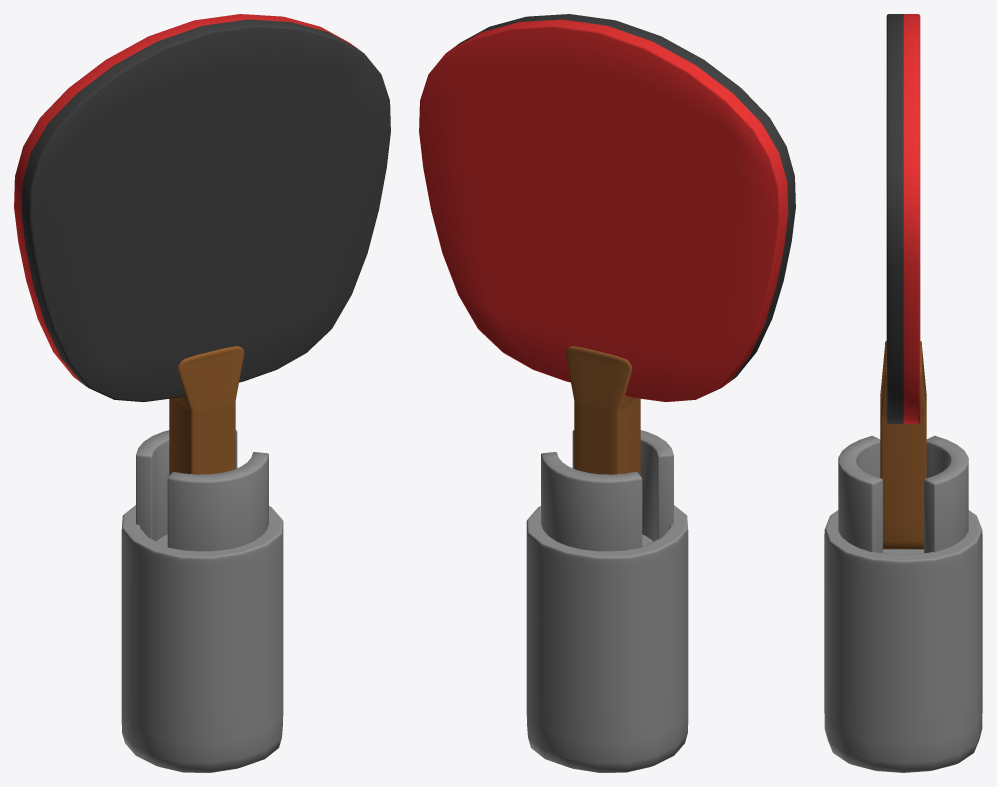
File: Tennis.fbx
3 renders of one model, left to right at view 1: azimuth 30°, elevation 25°; view 2: azimuth 150°, elevation 25°; view 3: azimuth 270°, elevation 25°, orthographic.
Parts seen in each view (by area): view 1: Plane; view 2: Plane; view 3: Plane.
Boxes of the visible parts, x1,y1,x2,y2 form: Plane: (14,14,390,772); Plane: (419,14,795,772); Plane: (824,14,982,772).
Size of the model in its own units: 196 by 372 by 75.43.
